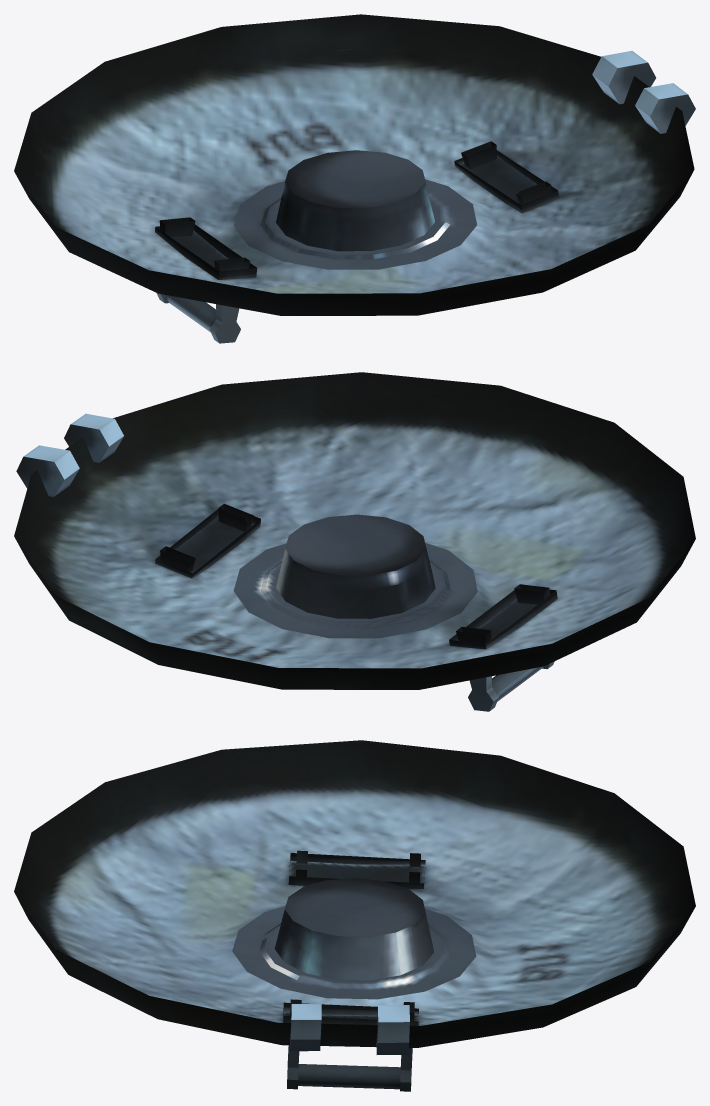
File: Luck.FBX
3 views of the same model, one above another, from view 1: azimuth 30°, elevation 25°; view 2: azimuth 150°, elevation 25°; view 3: azimuth 270°, elevation 25° (orthographic).
Parts seen in each view (by area): view 1: Luck; view 2: Luck; view 3: Luck.
Part boxes in pixels (x1=…): Luck: x1=14, y1=14, x2=695, y2=343; Luck: x1=14, y1=372, x2=695, y2=711; Luck: x1=14, y1=740, x2=695, y2=1091.
Size of the model in its own units: 146 by 32.65 by 142.
